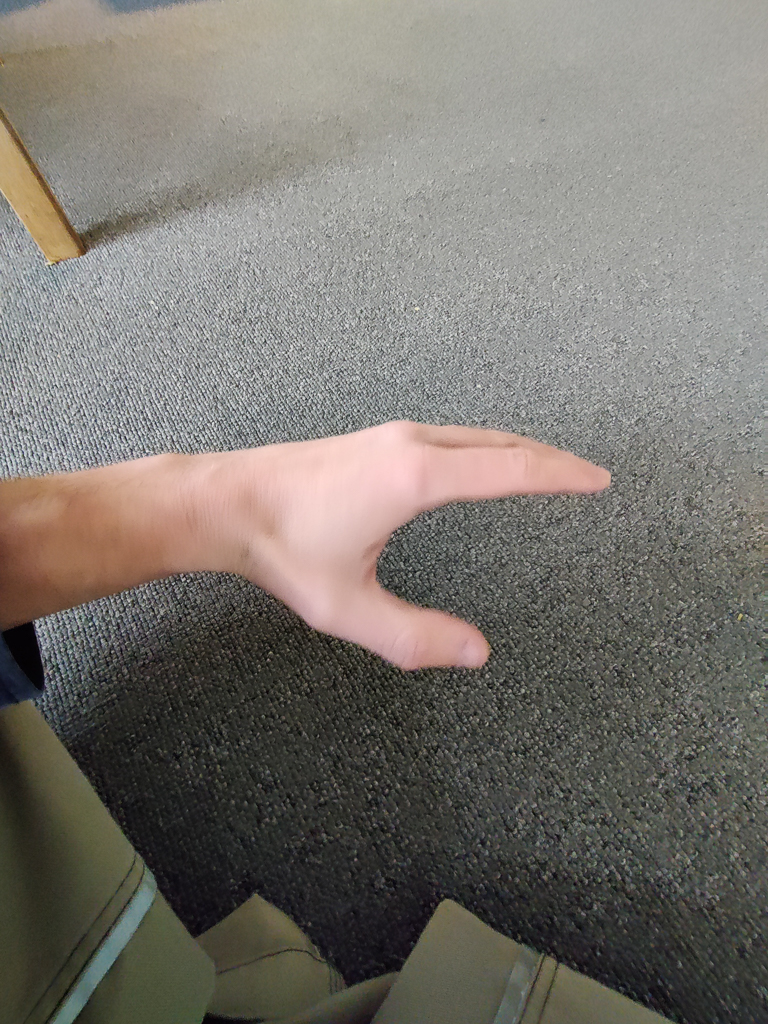Humanoid: (0, 401, 768, 1024)
